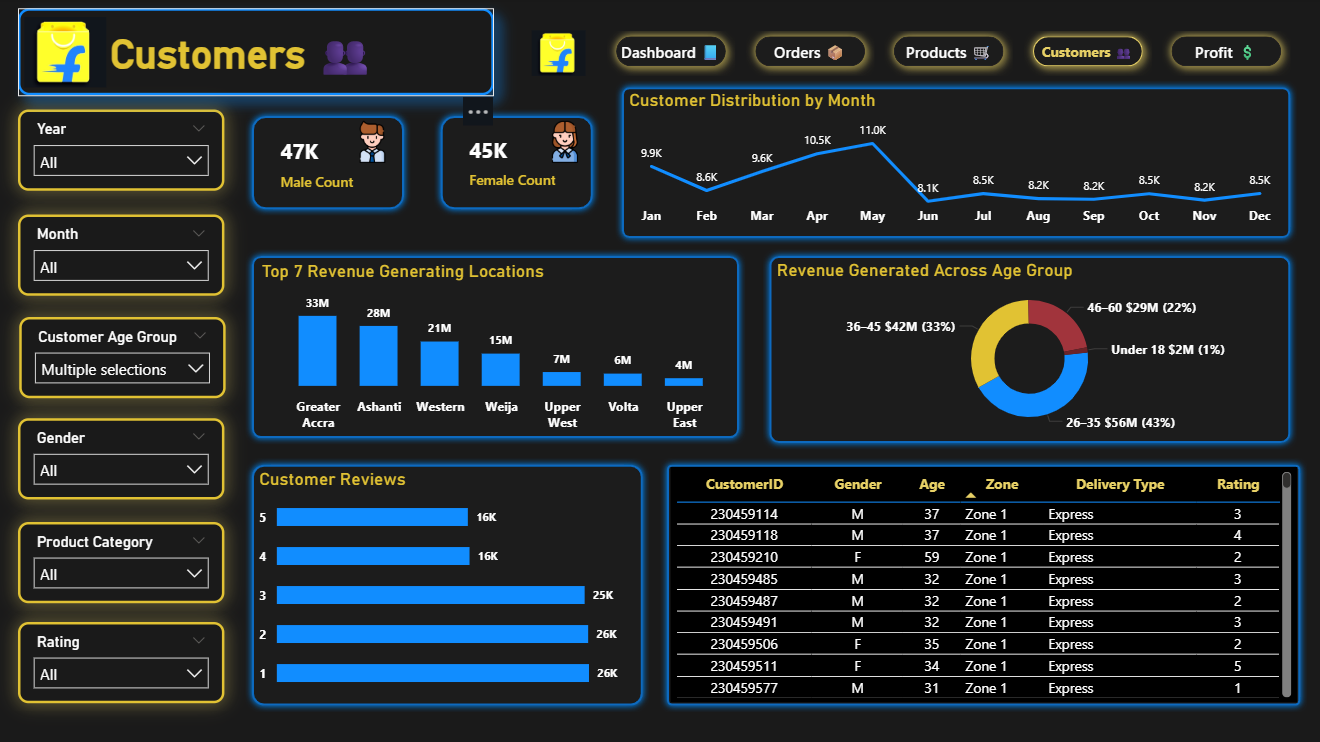

The dashboard page shown, as its layout file describes it:
{"tool":"powerbi","page":{"name":"Customers 👥","canvas":[1280,720],"ordinal":4},"visuals":[{"type":"shape","box":[596,80.8,657.5,158],"z":0},{"type":"slicer","fields":{"Values":["Data.Year"]},"box":[19.3,108.6,199.1,78.4],"z":2000},{"type":"slicer","fields":{"Values":["Data.Month"]},"box":[19.3,209.9,199.1,78.4],"z":3000},{"type":"slicer","fields":{"Values":["Data.Age Group"]},"box":[20.5,308.8,199.1,78.4],"z":4000},{"type":"slicer","fields":{"Values":["Data.Customer Gender"]},"box":[19.3,406.6,199.1,78.4],"z":5000},{"type":"slicer","fields":{"Values":["Data.Product Category"]},"box":[19.3,506.7,199.1,78.4],"z":6000},{"type":"slicer","fields":{"Values":["Data.Rating"]},"box":[19.3,603.2,199.1,78.4],"z":7000},{"type":"shape","box":[738.3,243.7,515.2,193],"z":9000},{"type":"shape","box":[238.9,445.2,389.7,244.9],"z":10000},{"type":"shape","box":[238.9,243.7,482.6,188.2],"z":11000},{"type":"shape","box":[639.4,445.2,623.7,244.9],"z":12000},{"type":"shape","box":[238.9,108.6,159.3,102.5],"z":13000},{"type":"shape","box":[421,108.6,159.3,102.5],"z":14000},{"type":"cardVisual","fields":{"Data":["_Measures.Female Count"]},"box":[425.9,117,154.4,85.7],"z":15000},{"type":"lineChart","title":"Customer Distribution by Month","fields":{"Category":["Data.Short Month"],"Y":["CountNonNull(Data.CustomerID)"]},"box":[604.4,89.3,640,140],"z":16000},{"type":"clusteredColumnChart","title":"Top 7 Revenue Generating Locations","fields":{"Y":["_Measures.Total Revenue"],"Category":["Data.Location"]},"box":[250,254.3,461,172],"z":17000},{"type":"donutChart","title":"Revenue Generated Across Age Group","fields":{"Category":["Data.Age Group"],"Y":["_Measures.Total Revenue"]},"box":[747,253.9,498,172.5],"z":18000},{"type":"cardVisual","fields":{"Data":["_Measures.Male Count"]},"box":[243.7,118.2,154.4,85.7],"z":19000},{"type":"tableEx","fields":{"Values":["Data.CustomerID","Data.Customer Gender","Sum(Data.Customer Age)","Data.Zone","Data.Delivery Type","Data.Rating"]},"box":[649.1,453.6,604.4,227],"z":20000},{"type":"clusteredBarChart","title":"Customer Reviews","fields":{"Category":["Data.Rating"],"Y":["CountNonNull(Data.CustomerID)"]},"box":[247.8,454.3,371.7,225.9],"z":21000},{"type":"pageNavigator","box":[587.8,29.3,661.8,47.5],"z":21001},{"type":"textbox","box":[19.5,11.2,459.3,83.8],"z":21002},{"type":"image","box":[25.1,16.8,79.6,72.6],"z":21003},{"type":"image","box":[515.2,23.7,51.7,60],"z":21004},{"type":"actionButton","box":[515.2,29.3,51.7,54.5],"z":21005}]}

Visuals, with their boxes in screenshot pixels (x1, y1, x2, y2), scaled from the page's 1280x720 canvas onto the 1320x742 screenshot:
shape: (615, 83, 1293, 246)
slicer - Data.Year: (20, 112, 225, 193)
slicer - Data.Month: (20, 216, 225, 297)
slicer - Data.Age Group: (21, 318, 226, 399)
slicer - Data.Customer Gender: (20, 419, 225, 500)
slicer - Data.Product Category: (20, 522, 225, 603)
slicer - Data.Rating: (20, 622, 225, 702)
shape: (761, 251, 1293, 450)
shape: (246, 459, 648, 711)
shape: (246, 251, 744, 445)
shape: (659, 459, 1303, 711)
shape: (246, 112, 411, 218)
shape: (434, 112, 598, 218)
cardVisual - _Measures.Female Count: (439, 121, 598, 209)
"Customer Distribution by Month" lineChart: (623, 92, 1283, 236)
"Top 7 Revenue Generating Locations" clusteredColumnChart: (258, 262, 733, 439)
"Revenue Generated Across Age Group" donutChart: (770, 262, 1284, 439)
cardVisual - _Measures.Male Count: (251, 122, 411, 210)
tableEx - Data.CustomerID x Data.Customer Gender: (669, 467, 1293, 701)
"Customer Reviews" clusteredBarChart: (256, 468, 639, 701)
pageNavigator: (606, 30, 1289, 79)
textbox: (20, 12, 494, 98)
image: (26, 17, 108, 92)
image: (531, 24, 585, 86)
actionButton: (531, 30, 585, 86)
